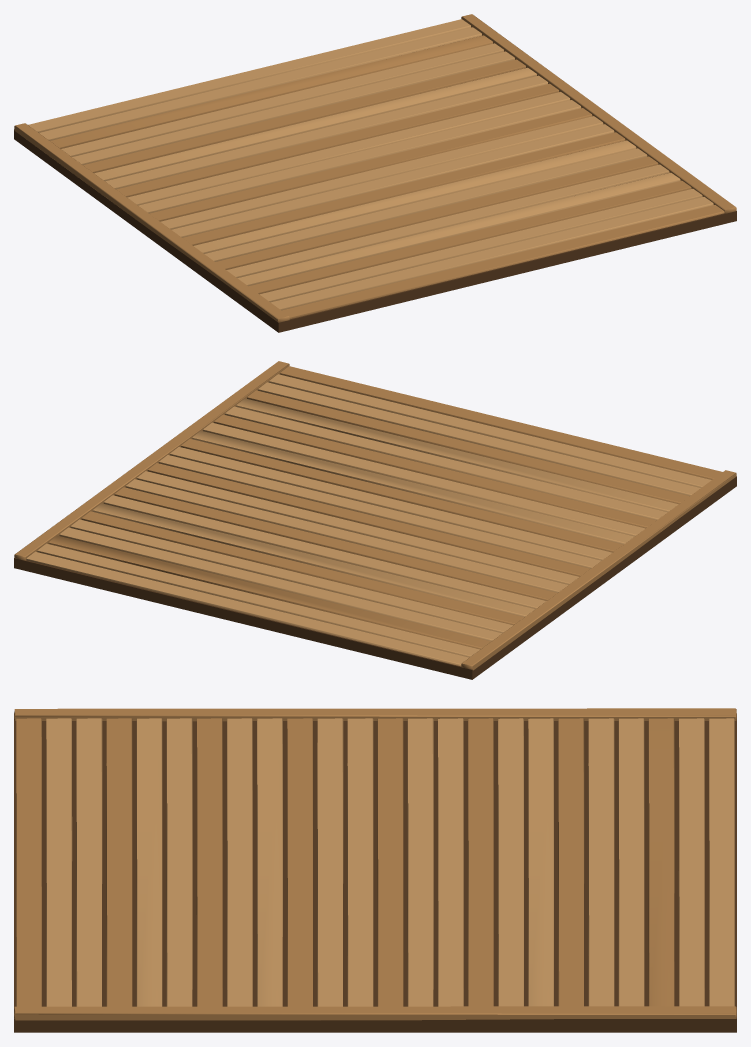
The model's file is board_tile_lod.glb.
3 views of the same model, one above another, from view 1: azimuth 30°, elevation 25°; view 2: azimuth 150°, elevation 25°; view 3: azimuth 270°, elevation 25° (orthographic). The views are drawn at different scales.
Parts seen in each view (by area): view 1: board_tile_lod; view 2: board_tile_lod; view 3: board_tile_lod.
Boxes of the visible parts, x1,y1,x2,y2 form: board_tile_lod: [14, 14, 736, 332]; board_tile_lod: [14, 361, 736, 679]; board_tile_lod: [14, 708, 736, 1032].
Size of the model in its own units: 9.61 by 0.28 by 9.6.
